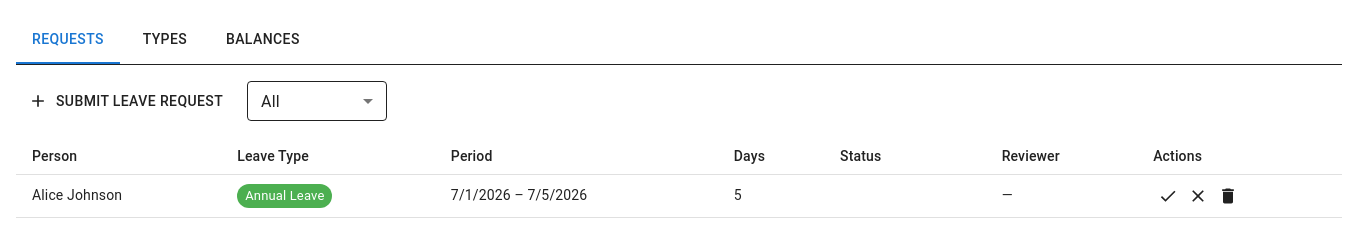
Test: LeaveManager › shows empty state when no leave types
Step 1. Click the tab "Types" → click(165, 40), box [120,16,210,64]
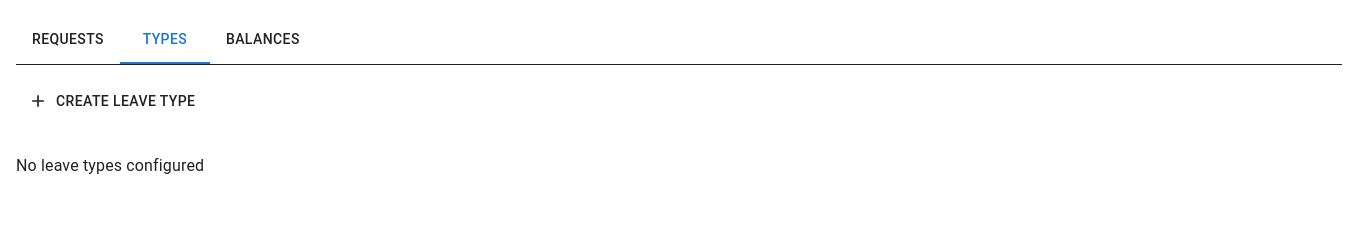
Result: the text "No leave types configured" is shown at [16,156,204,174]
